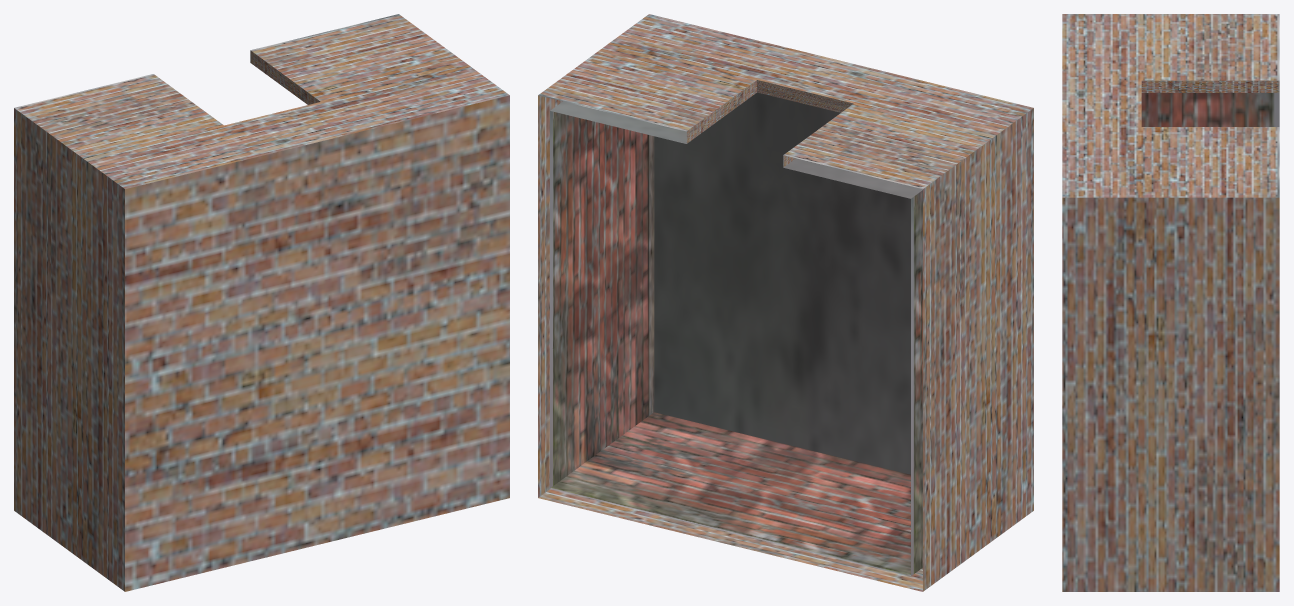
Rendered from 4x4N_brick_wtf.obj.
3 views of the same model, side by side, from view 1: azimuth 30°, elevation 25°; view 2: azimuth 150°, elevation 25°; view 3: azimuth 270°, elevation 25° (orthographic). The views are drawn at different scales.
Visible parts, largest first — view 1: group3; view 2: group3; view 3: group3.
Part boxes in pixels (x1,y1,x2,y2): group3: (14,14,509,591); group3: (538,14,1033,591); group3: (1062,14,1279,591).
Bounding box in the file's own units: 660 × 660 × 330.
